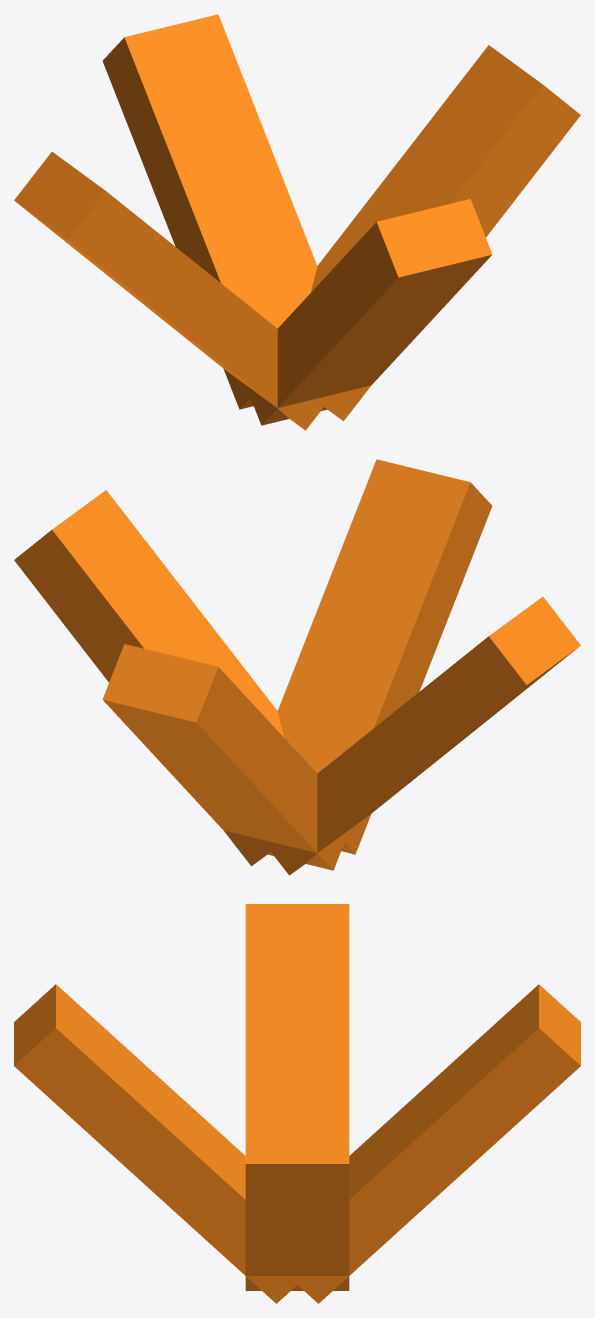
The model's file is PRP_BeaconChevron.fbx.
The picture shows the model from 3 angles, top to bottom: view 1: azimuth 30°, elevation 25°; view 2: azimuth 150°, elevation 25°; view 3: azimuth 270°, elevation 25°; orthographic projection. The views are drawn at different scales.
Visible parts, largest first — view 1: PRP_BeaconChevron; view 2: PRP_BeaconChevron; view 3: PRP_BeaconChevron.
Boxes of the visible parts, bbox=[...] form: PRP_BeaconChevron: bbox=[14, 14, 580, 430]; PRP_BeaconChevron: bbox=[14, 459, 580, 875]; PRP_BeaconChevron: bbox=[14, 904, 580, 1303].
Bounding box in the file's own units: 7.64 × 4.1 × 7.64.
